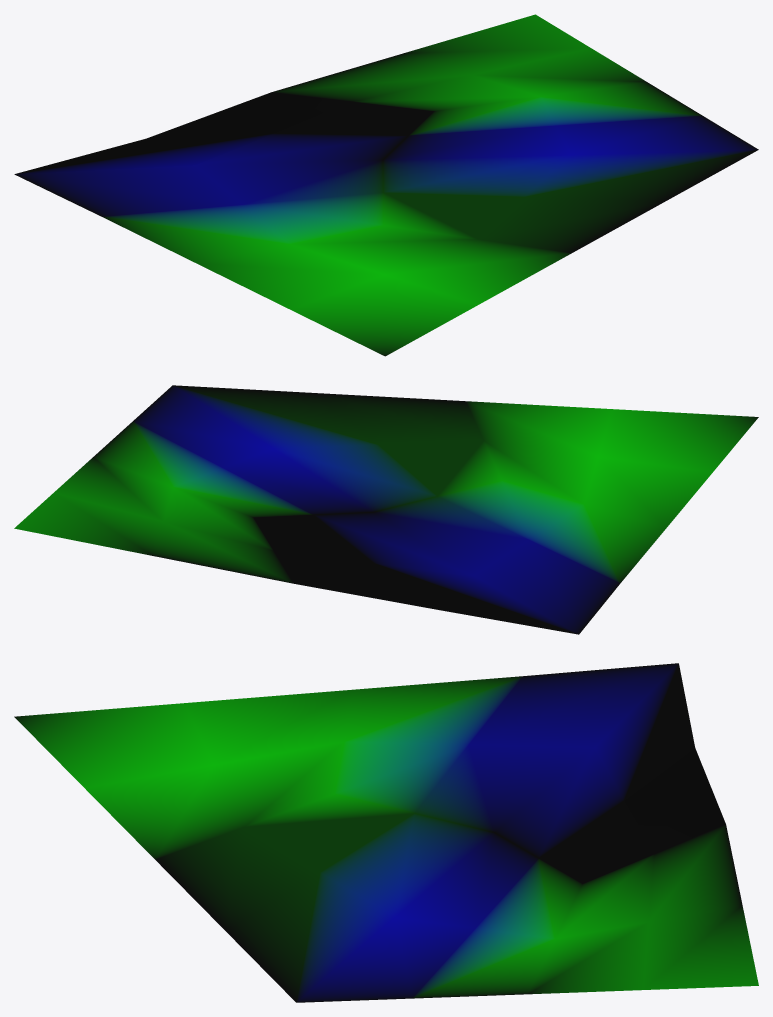
The picture shows the model from 3 angles, top to bottom: view 1: azimuth 30°, elevation 25°; view 2: azimuth 150°, elevation 25°; view 3: azimuth 270°, elevation 25°; orthographic projection. The views are drawn at different scales.
Parts seen in each view (by area): view 1: Sprite__2_; view 2: Sprite__2_; view 3: Sprite__2_.
Part boxes in pixels (x1,y1,x2,y2): Sprite__2_: (14,14,758,356); Sprite__2_: (14,385,758,634); Sprite__2_: (14,663,758,1002).
Bounding box in the file's own units: 601 × 3.23 × 558.
